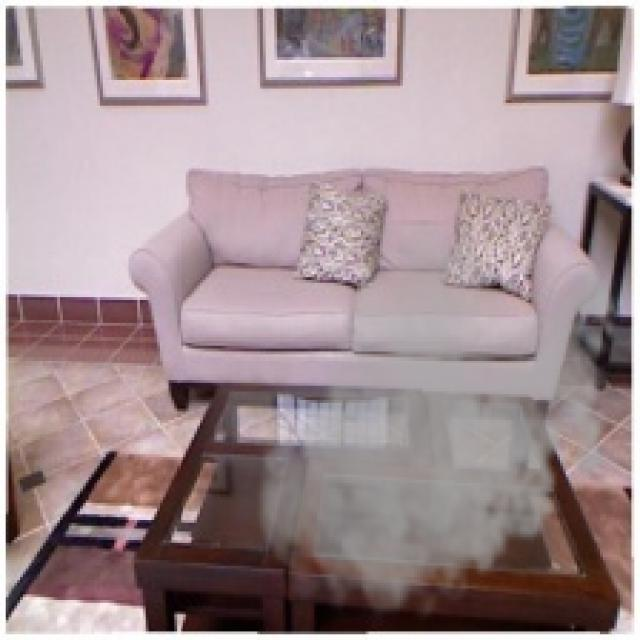Smoke: (248, 220, 632, 629)
